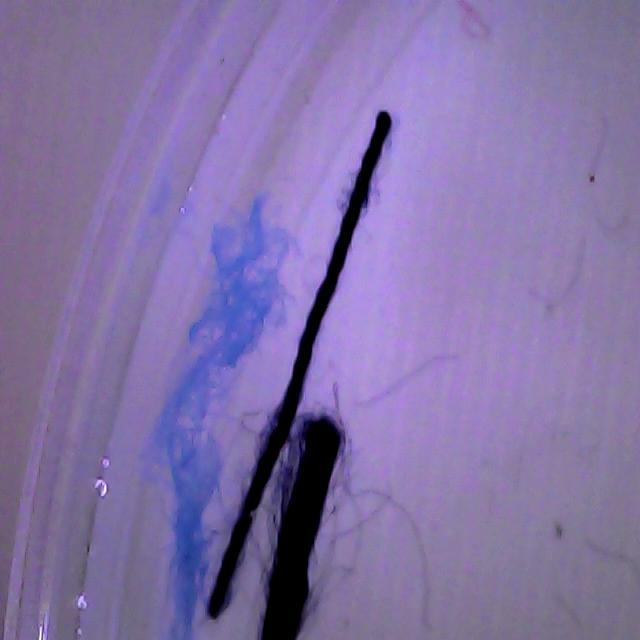fibers: (204, 107, 397, 623), (257, 413, 346, 640)
